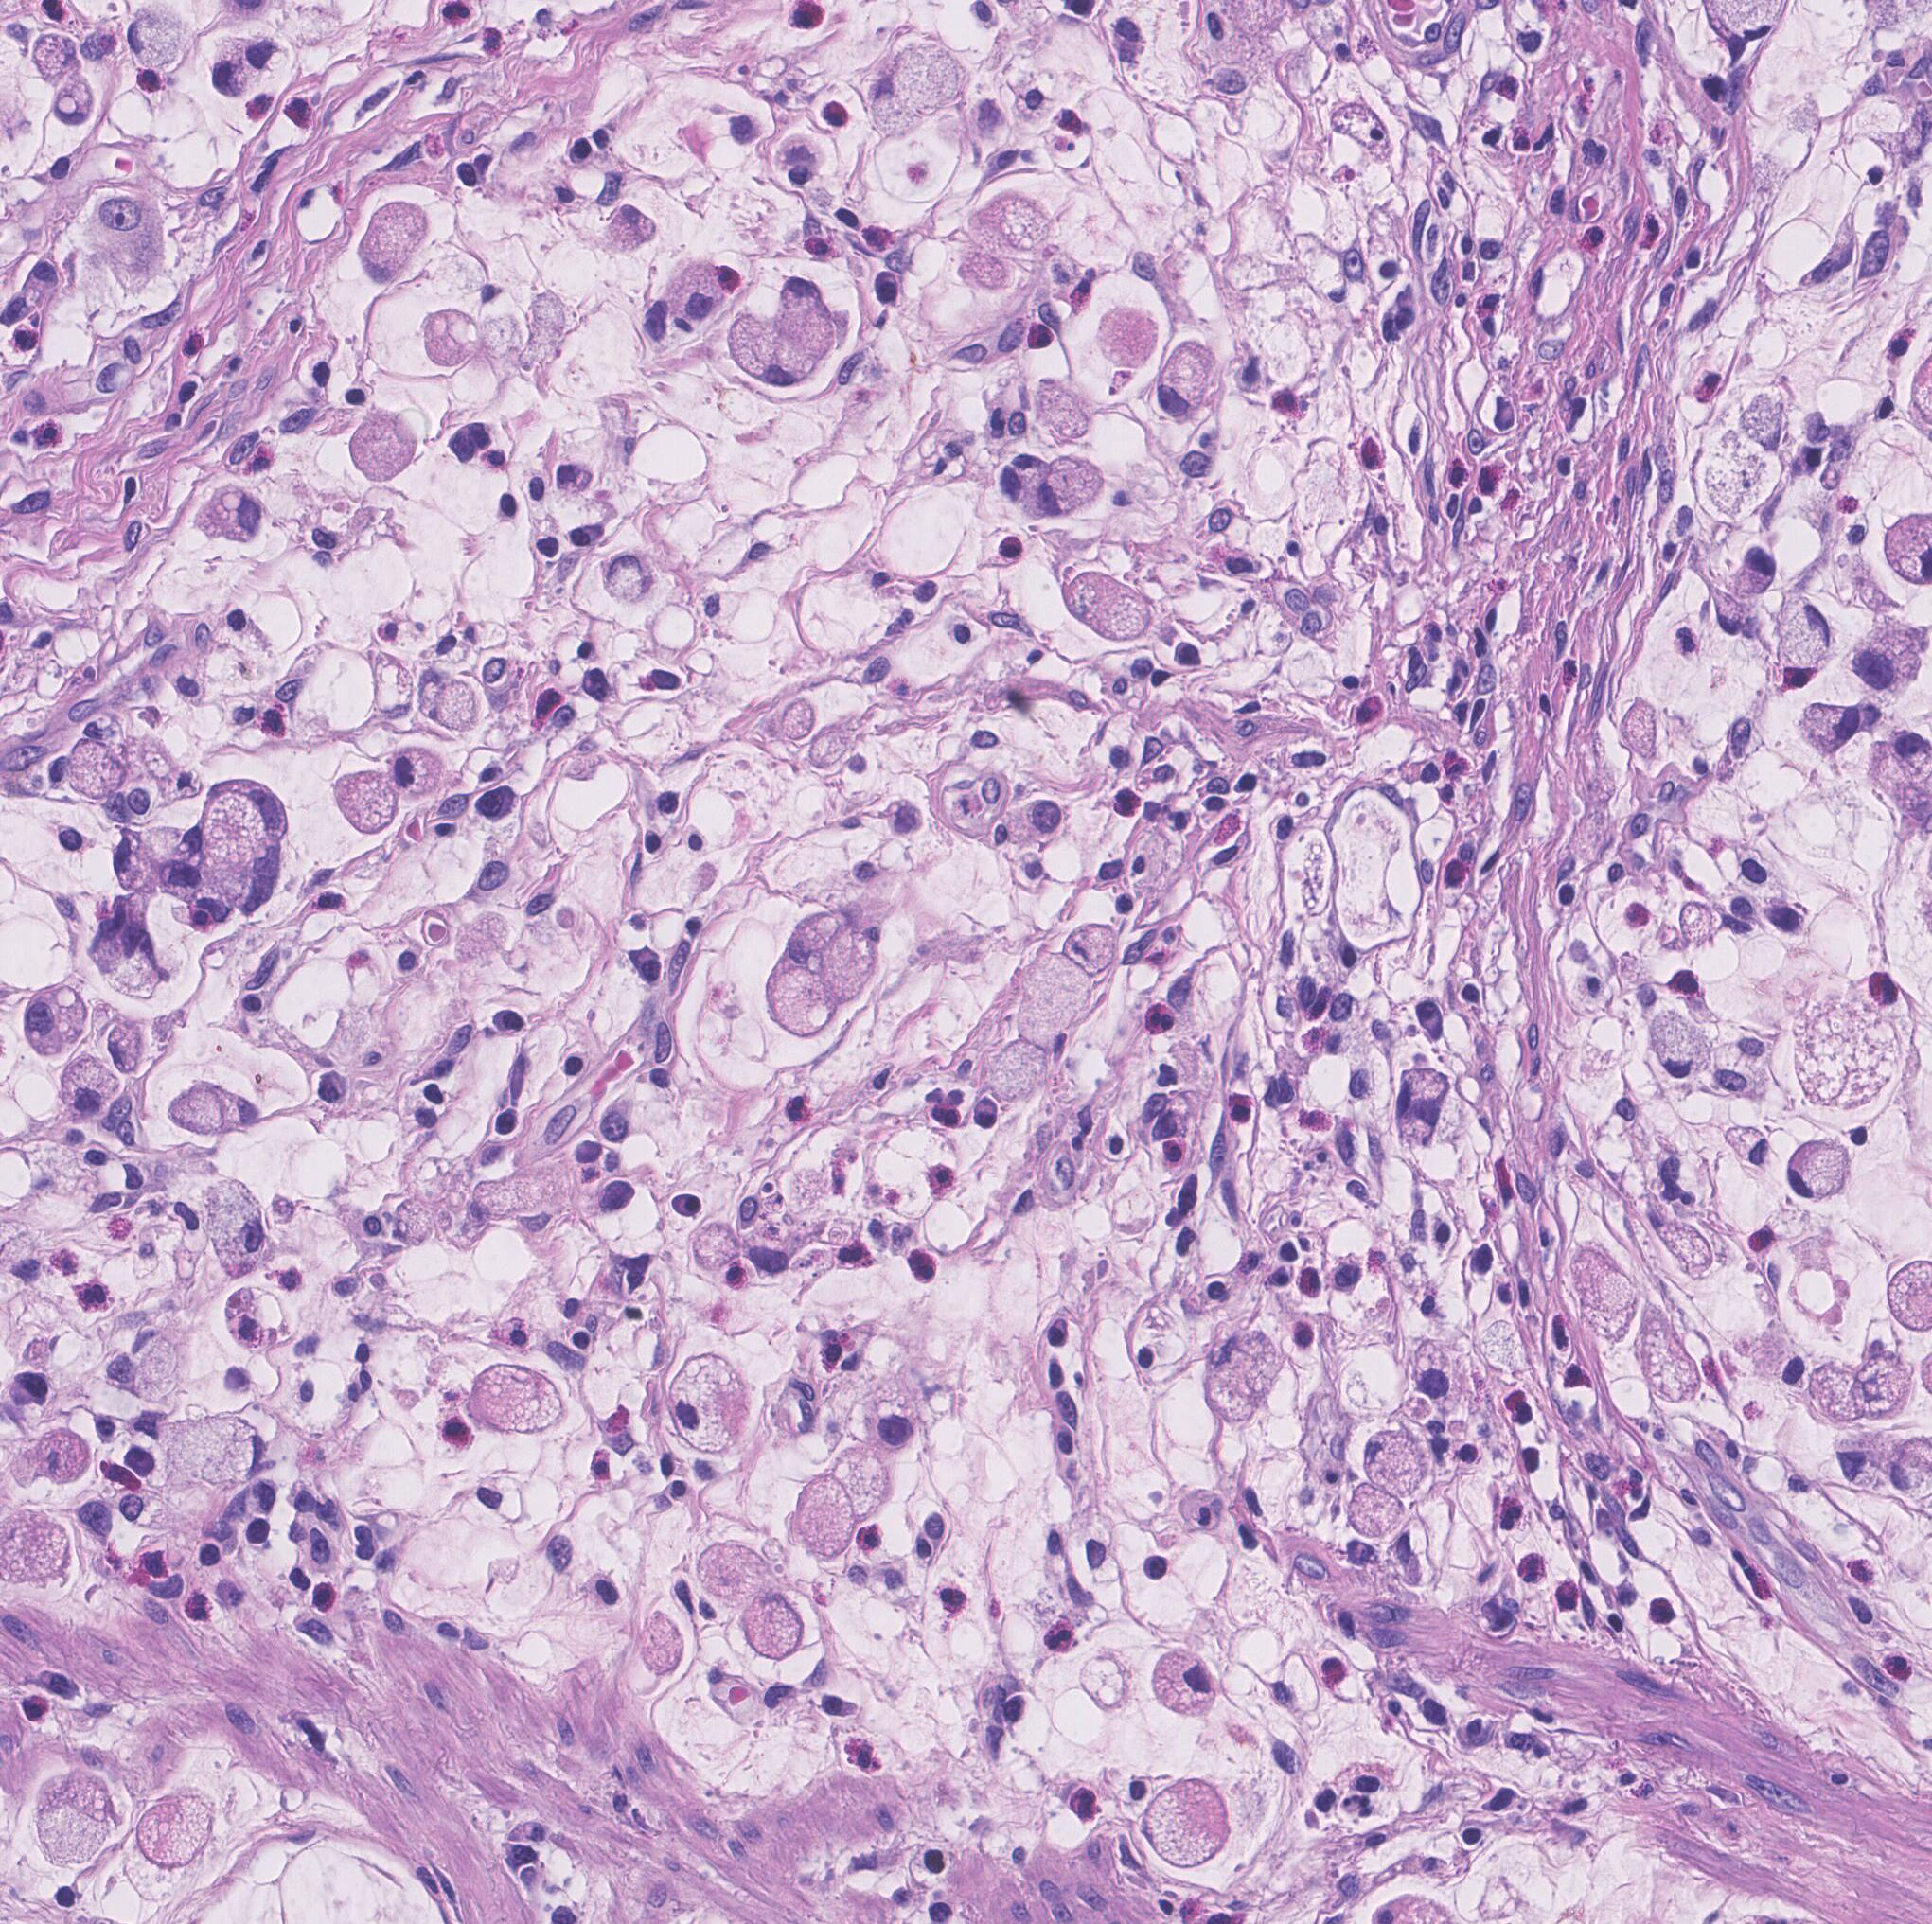ring_cell_cancer: (769, 897, 887, 1045), (183, 781, 293, 929), (78, 893, 178, 1013), (658, 1353, 751, 1459), (153, 1408, 270, 1492), (862, 44, 966, 134), (108, 816, 210, 904), (1206, 1323, 1292, 1425), (1063, 555, 1155, 650), (1142, 1780, 1239, 1869), (1565, 1237, 1641, 1351), (1632, 1299, 1710, 1410), (469, 1362, 573, 1443), (35, 1772, 120, 1871), (1015, 951, 1095, 1054), (724, 308, 816, 388), (1141, 1640, 1232, 1720), (656, 257, 737, 345), (143, 1781, 220, 1871), (171, 1069, 266, 1142), (356, 199, 432, 285), (1773, 590, 1835, 692), (203, 1184, 270, 1277), (698, 1538, 779, 1614), (1853, 622, 1930, 699), (1387, 1062, 1456, 1149), (770, 280, 848, 354), (1363, 1427, 1442, 1499), (791, 1466, 851, 1561), (1787, 1124, 1853, 1210), (347, 409, 421, 485), (323, 770, 402, 837), (23, 978, 88, 1059), (980, 1036, 1054, 1106), (93, 1006, 164, 1078), (1160, 337, 1220, 421), (1648, 1008, 1710, 1087), (744, 1595, 813, 1665), (62, 740, 130, 809), (418, 670, 490, 735), (1035, 374, 1100, 444), (1853, 1344, 1913, 1420), (1040, 456, 1109, 522), (1798, 701, 1879, 756), (991, 795, 1072, 846), (199, 483, 264, 546), (1345, 1476, 1408, 1538), (1066, 914, 1126, 980), (60, 1054, 120, 1119), (1616, 698, 1675, 763), (599, 199, 661, 259), (384, 745, 450, 800), (33, 1429, 93, 1487), (603, 548, 661, 603), (772, 134, 829, 187), (1726, 1122, 1775, 1179)
